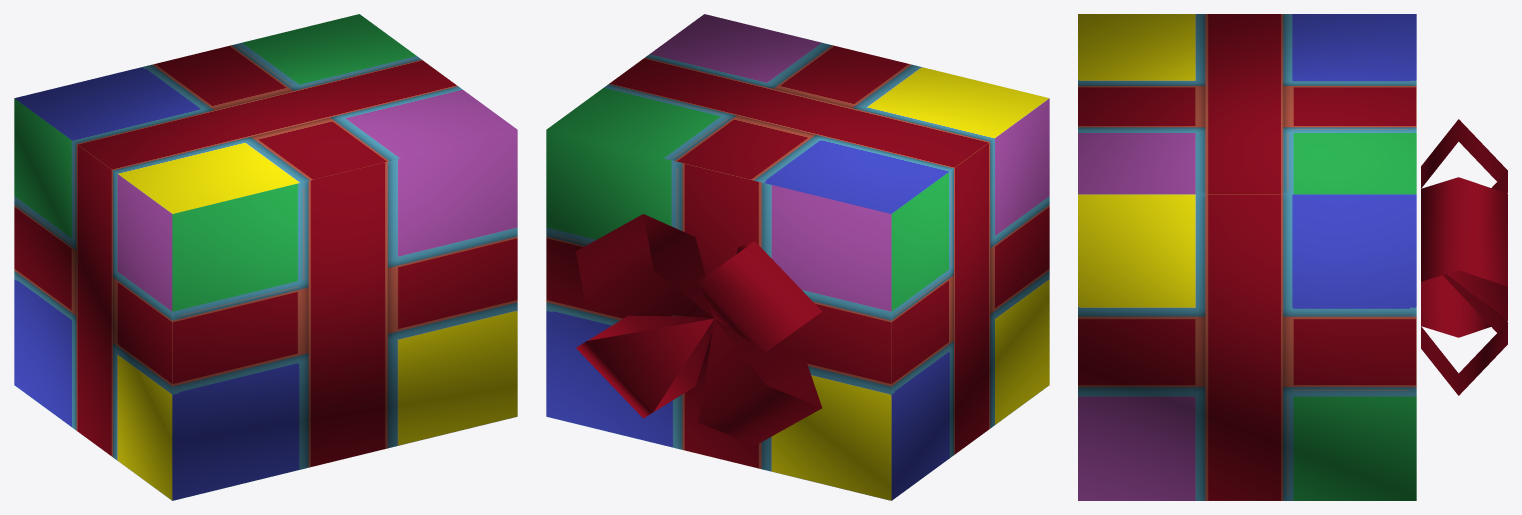
The model's file is Present_blue_b.fbx.
3 views of the same model, side by side, from view 1: azimuth 30°, elevation 25°; view 2: azimuth 150°, elevation 25°; view 3: azimuth 270°, elevation 25° (orthographic). The views are drawn at different scales.
Visible parts, largest first — view 1: Present_blue_b; view 2: Present_blue_b; view 3: Present_blue_b.
Part boxes in pixels (x1,y1,x2,y2): Present_blue_b: (14, 14, 517, 500); Present_blue_b: (546, 14, 1049, 500); Present_blue_b: (1078, 14, 1507, 500).
Size of the model in its own units: 110 by 87.15 by 111.
